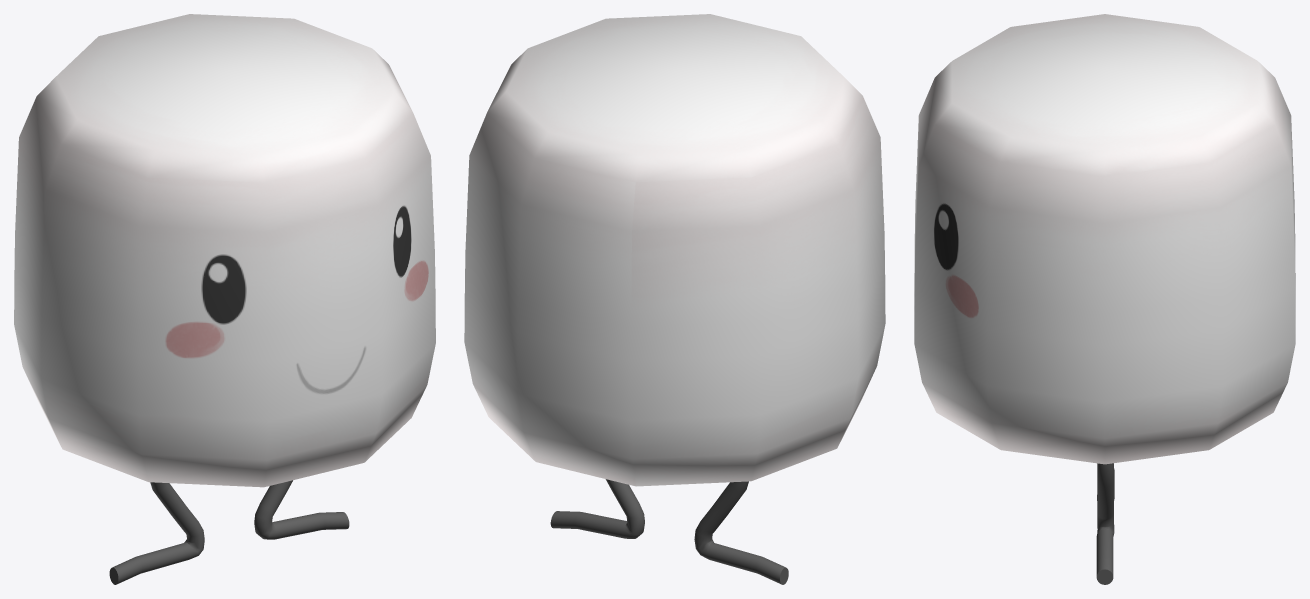
The model's file is Marshmallow_UV.fbx.
3 views of the same model, side by side, from view 1: azimuth 30°, elevation 25°; view 2: azimuth 150°, elevation 25°; view 3: azimuth 270°, elevation 25° (orthographic). The views are drawn at different scales.
Visible parts, largest first — view 1: Marshmallow, Foot_03, Foot_04; view 2: Marshmallow, Foot_03, Foot_04; view 3: Marshmallow, Foot_04.
Part boxes in pixels (x1,y1,x2,y2): Marshmallow: (14, 14, 435, 487); Foot_03: (109, 482, 204, 584); Foot_04: (254, 480, 349, 539); Marshmallow: (464, 14, 885, 486); Foot_03: (694, 481, 788, 584); Foot_04: (550, 479, 644, 538); Marshmallow: (914, 14, 1295, 464); Foot_04: (1096, 463, 1114, 584).
Size of the model in its own units: 5.99 by 7.6 by 5.7.
Materials: 2 (1 with a texture image).
